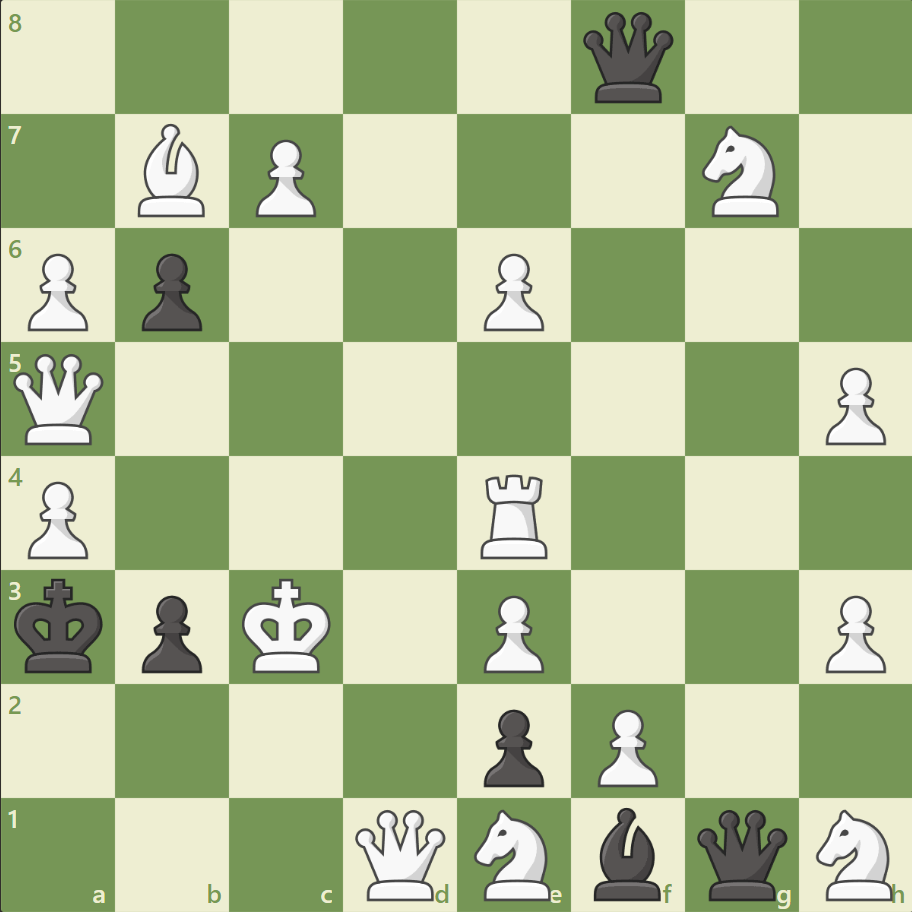B: (131, 120, 215, 222)
K: (238, 571, 338, 679)
N: (692, 121, 789, 223), (465, 802, 562, 904), (806, 802, 903, 904)
P: (247, 132, 322, 223), (20, 246, 95, 337), (474, 246, 549, 337), (20, 473, 95, 564), (474, 586, 549, 677), (815, 359, 889, 450), (815, 586, 889, 677), (588, 700, 662, 791)
Q: (10, 349, 109, 449), (351, 804, 450, 903)
R: (473, 466, 556, 563)
b: (585, 801, 669, 904)
k: (11, 571, 111, 679)
p: (133, 246, 208, 337), (133, 586, 208, 677), (474, 700, 549, 791)
q: (578, 9, 677, 108), (691, 804, 790, 903)
